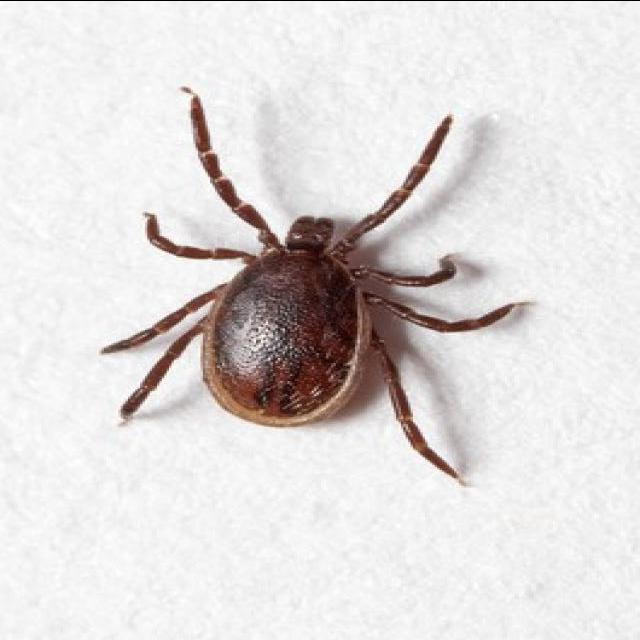Ixodes Ricinus-M: (99, 86, 529, 487)
